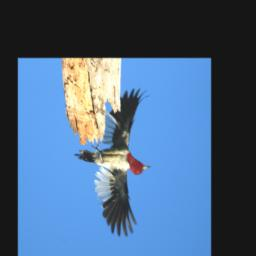Woodpecker: (73, 87, 151, 238)
